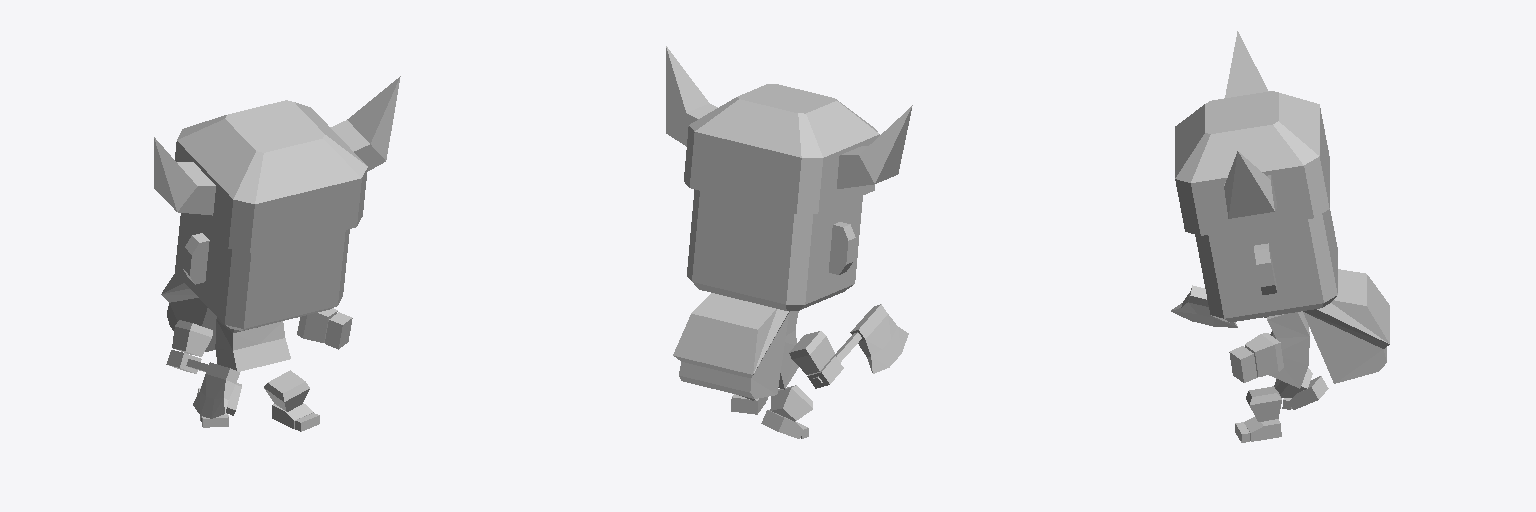
The model's file is mini_knight_000011.obj.
3 renders of one model, left to right at view 1: azimuth 30°, elevation 25°; view 2: azimuth 150°, elevation 25°; view 3: azimuth 270°, elevation 25°, orthographic.
Visible parts, largest first — view 1: cap_Object01_Material__3, Mesh_objheadusOBJexport_Material, axe_Object02_Material__3, back_Object03_Material__3; view 2: cap_Object01_Material__3, Mesh_objheadusOBJexport_Material, back_Object03_Material__3, axe_Object02_Material__3; view 3: cap_Object01_Material__3, Mesh_objheadusOBJexport_Material, back_Object03_Material__3, axe_Object02_Material__3.
Boxes of the visible parts, box(x1,y1,x2,y2) form: cap_Object01_Material__3: box(154, 76, 400, 252); Mesh_objheadusOBJexport_Material: box(166, 213, 352, 431); axe_Object02_Material__3: box(186, 359, 239, 418); back_Object03_Material__3: box(161, 273, 216, 351); cap_Object01_Material__3: box(666, 46, 912, 213); Mesh_objheadusOBJexport_Material: box(687, 189, 862, 438); back_Object03_Material__3: box(673, 293, 789, 398); axe_Object02_Material__3: box(813, 304, 908, 384); cap_Object01_Material__3: box(1175, 31, 1329, 235); Mesh_objheadusOBJexport_Material: box(1195, 209, 1337, 442); back_Object03_Material__3: box(1303, 269, 1389, 383); axe_Object02_Material__3: box(1171, 285, 1266, 327).
Size of the model in its own units: 1.94 by 2.48 by 1.5.